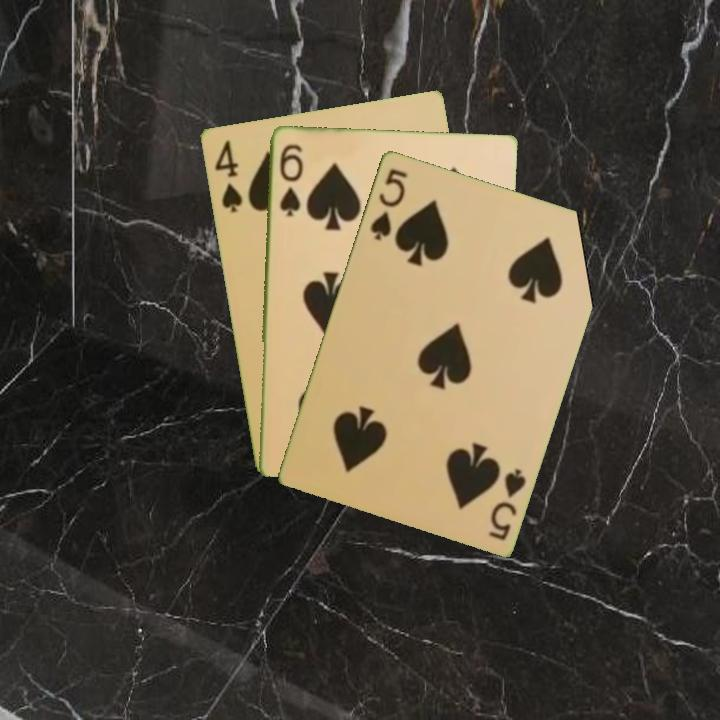4s: (210, 136, 245, 216)
5s: (484, 464, 529, 543), (366, 164, 410, 243)
6s: (275, 140, 305, 219)
